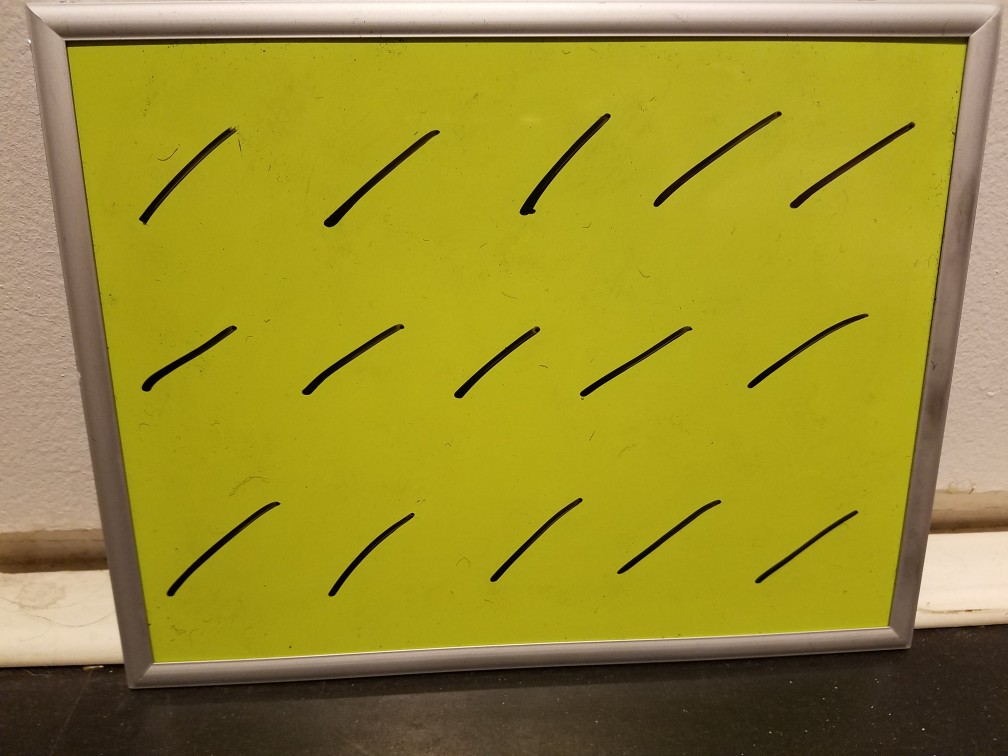/: (568, 300, 712, 421), (646, 91, 782, 216), (117, 112, 244, 245), (313, 117, 447, 239), (162, 483, 287, 612), (789, 109, 924, 226), (605, 477, 730, 601), (733, 304, 883, 405), (504, 99, 617, 233), (477, 471, 587, 603), (750, 488, 871, 600), (320, 485, 424, 610), (438, 307, 560, 413), (288, 307, 415, 405), (135, 312, 247, 407)
